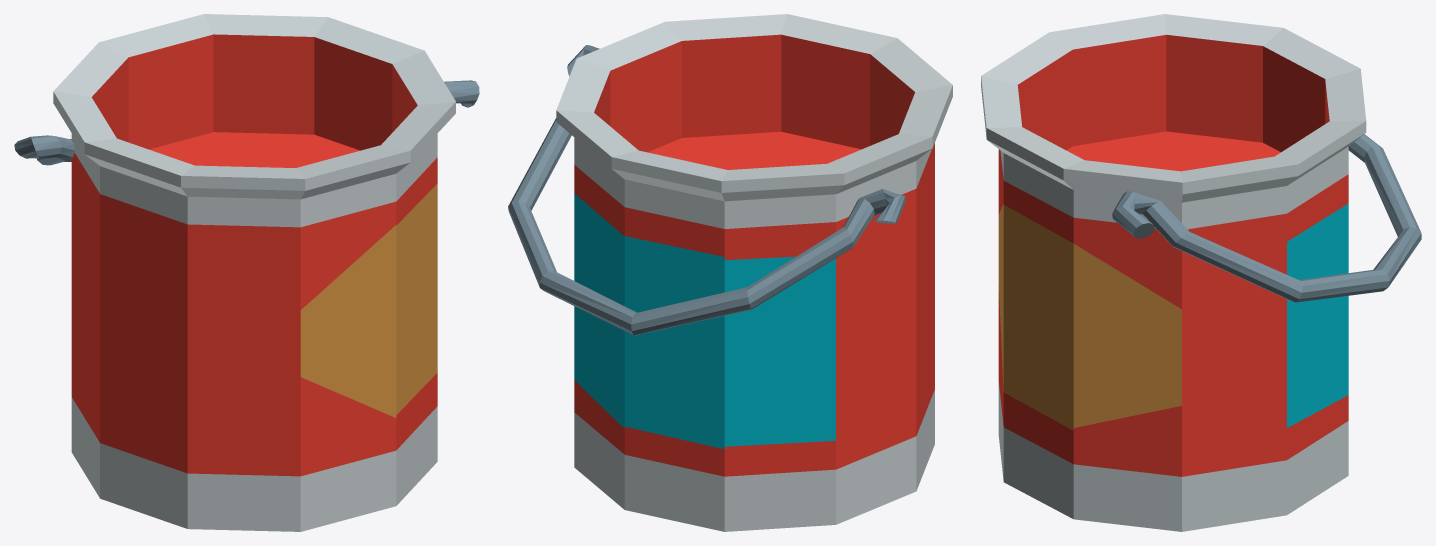
File: PaintCan.gltf
3 views of the same model, side by side, from view 1: azimuth 30°, elevation 25°; view 2: azimuth 150°, elevation 25°; view 3: azimuth 270°, elevation 25° (orthographic).
Parts seen in each view (by area): view 1: Paint Bucket; view 2: Paint Bucket; view 3: Paint Bucket.
Boxes of the visible parts, x1,y1,x2,y2 form: Paint Bucket: [14, 14, 479, 531]; Paint Bucket: [508, 14, 952, 531]; Paint Bucket: [981, 14, 1421, 531].
Size of the model in its own units: 0.15 by 0.1309 by 0.1465.
